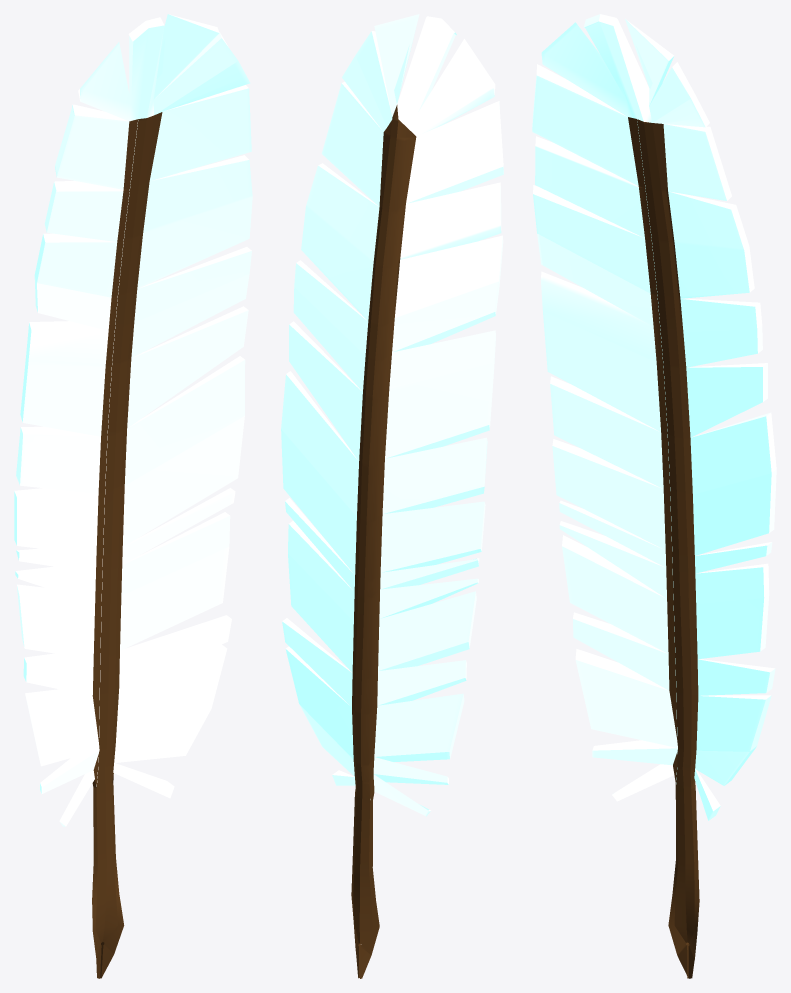
The model's file is BlueJayFeather.fbx.
The picture shows the model from 3 angles, left to right: view 1: azimuth 30°, elevation 25°; view 2: azimuth 150°, elevation 25°; view 3: azimuth 330°, elevation 25°; orthographic projection. The views are drawn at different scales.
Visible parts, largest first — view 1: pCylinder2; view 2: pCylinder2; view 3: pCylinder2.
Part boxes in pixels (<box>): pCylinder2: <box>14,14,252,978</box>; pCylinder2: <box>281,14,503,978</box>; pCylinder2: <box>532,14,776,978</box>.
Size of the model in its own units: 15.46 by 66.49 by 8.57.
